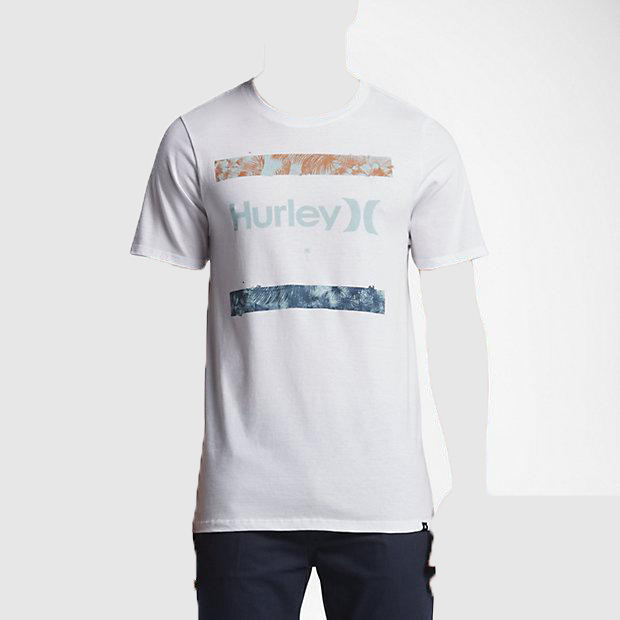teeshirt: (127, 73, 493, 537)
